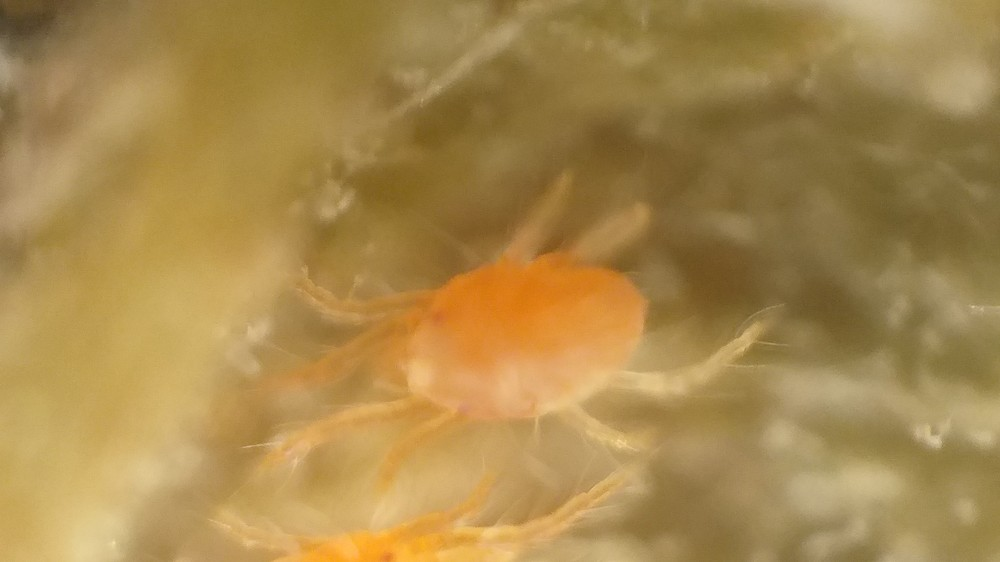Aracnido Rojo: (252, 181, 791, 527)
